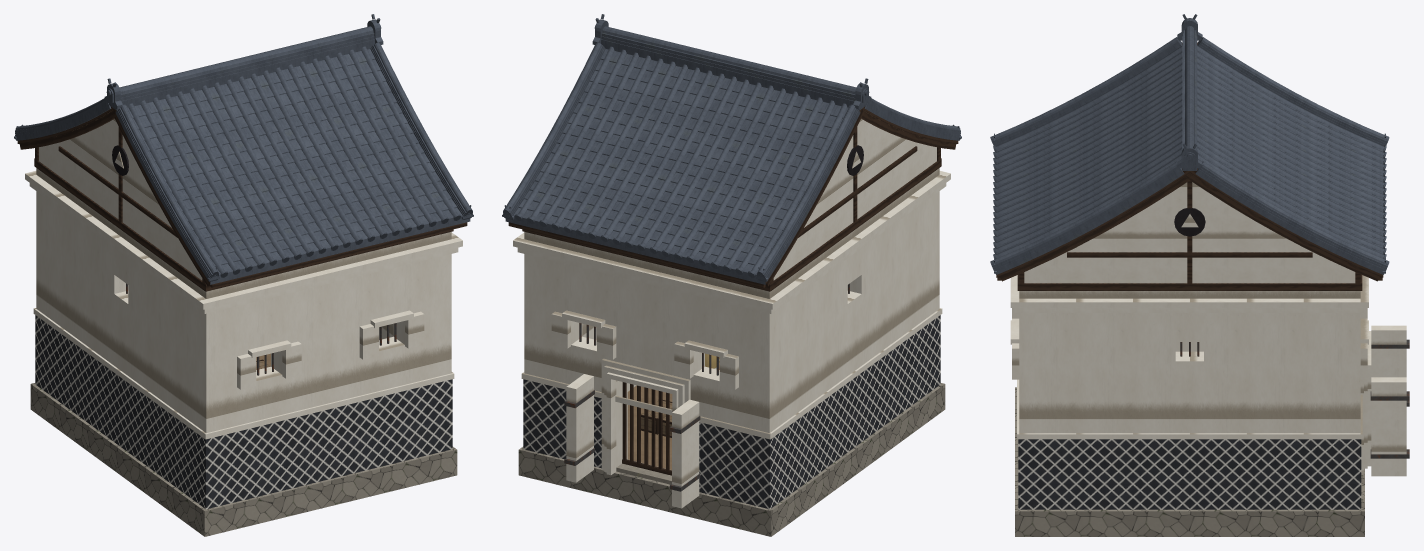
File: HO_Bldg_Kura.fbx
The picture shows the model from 3 angles, left to right: view 1: azimuth 30°, elevation 25°; view 2: azimuth 150°, elevation 25°; view 3: azimuth 270°, elevation 25°; orthographic projection.
Visible parts, largest first — view 1: HO_Bldg_Kura_Structure_GF, HO_Bldg_Kura_RoofTiles, HO_Bldg_Kura_RoofFrame; view 2: HO_Bldg_Kura_Structure_GF, HO_Bldg_Kura_RoofTiles, HO_Bldg_Kura_RoofFrame, HO_Bldg_Kura_Door1, HO_Bldg_Kura_Interior_GF; view 3: HO_Bldg_Kura_Structure_GF, HO_Bldg_Kura_RoofTiles, HO_Bldg_Kura_RoofFrame.
Part boxes in pixels (x1,y1,x2,y2): HO_Bldg_Kura_Structure_GF: (25,145,462,536); HO_Bldg_Kura_RoofTiles: (14,14,473,284); HO_Bldg_Kura_RoofFrame: (17,106,467,291); HO_Bldg_Kura_Structure_GF: (513,145,950,536); HO_Bldg_Kura_RoofTiles: (502,14,961,284); HO_Bldg_Kura_RoofFrame: (508,106,958,291); HO_Bldg_Kura_Door1: (622,382,671,475); HO_Bldg_Kura_Interior_GF: (641,353,719,437); HO_Bldg_Kura_Structure_GF: (1010,208,1409,536); HO_Bldg_Kura_RoofTiles: (990,14,1389,274); HO_Bldg_Kura_RoofFrame: (996,42,1383,290).
Bounding box in the file's own units: 22.15 × 30.72 × 29.48.
